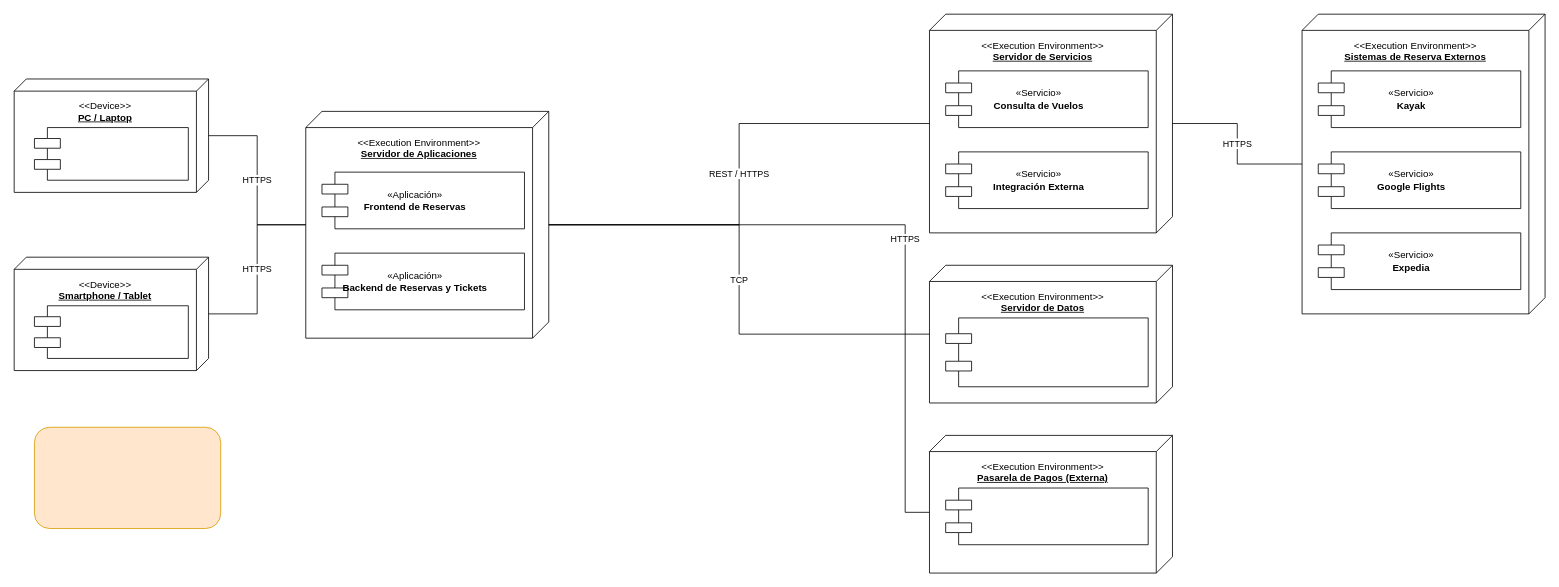
Some shapes in this 1559 by 587 pixel diagram are drawn without their labels. Each missing label, with the centre of its shape:
"Diagrama de Despliegue Examen Práctico Progreso 2 Isaac Benítez" belongs at [127,477].
"«Aplicación» App Nativa" belongs at [111,331].
"«Aplicación» Navegador Web" belongs at [111,153].
"«Base de Datos» Repositorio de Analítica de Preferencias" belongs at [1046,352].
"«Servicio» Procesamiento de Pagos" belongs at [1046,516].
